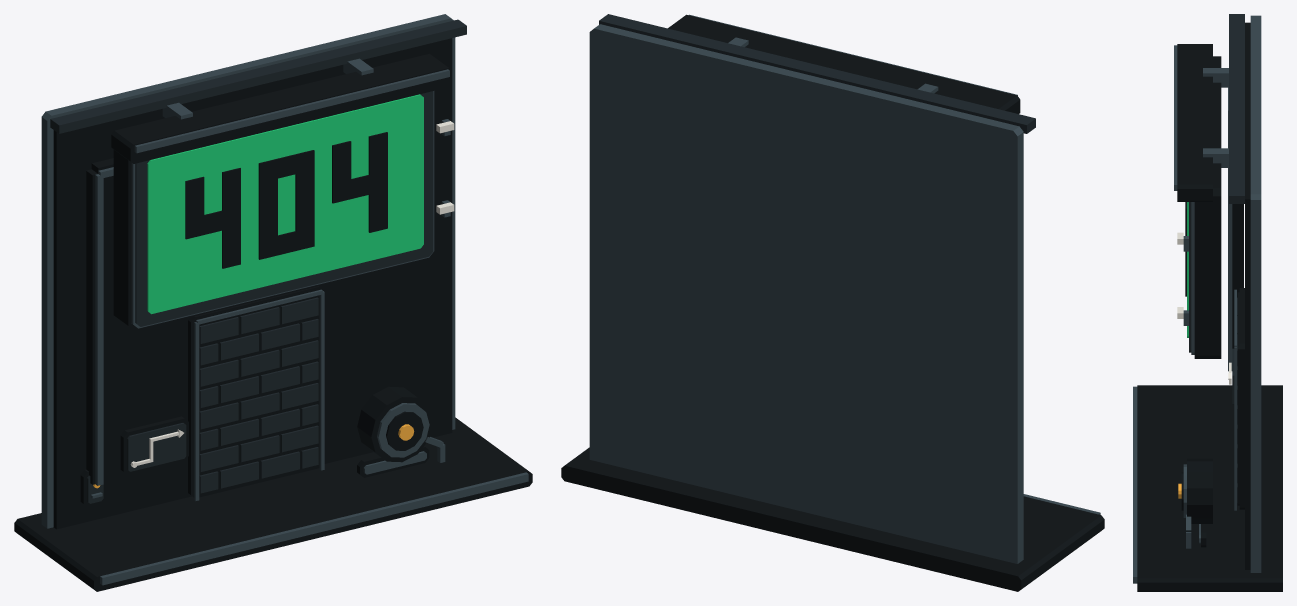
3 views of the same model, side by side, from view 1: azimuth 30°, elevation 25°; view 2: azimuth 150°, elevation 25°; view 3: azimuth 270°, elevation 25° (orthographic). The views are drawn at different scales.
Visible parts, largest first — view 1: Exit Liquidity sign; view 2: Exit Liquidity sign; view 3: Exit Liquidity sign.
Part boxes in pixels (<box>): Exit Liquidity sign: <box>14,14,532,591</box>; Exit Liquidity sign: <box>561,14,1104,591</box>; Exit Liquidity sign: <box>1133,14,1282,591</box>.
Size of the model in its own units: 1.08 by 1 by 0.3475.
